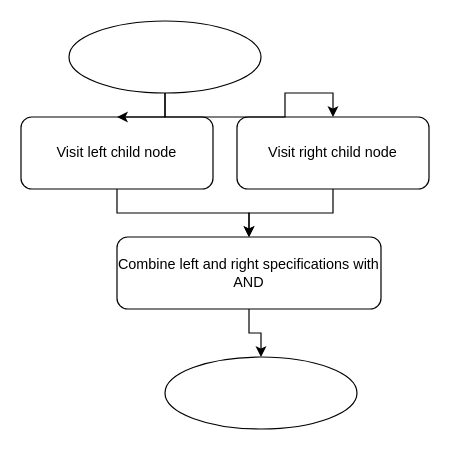
This 450x450 diagram has some shape labels left out. The centre of each missing label's shape, as x and y in pixels:
"Return combined specification" belongs at pixel 260 392.
"visit(AndNode) called" belongs at pixel 164 56.
